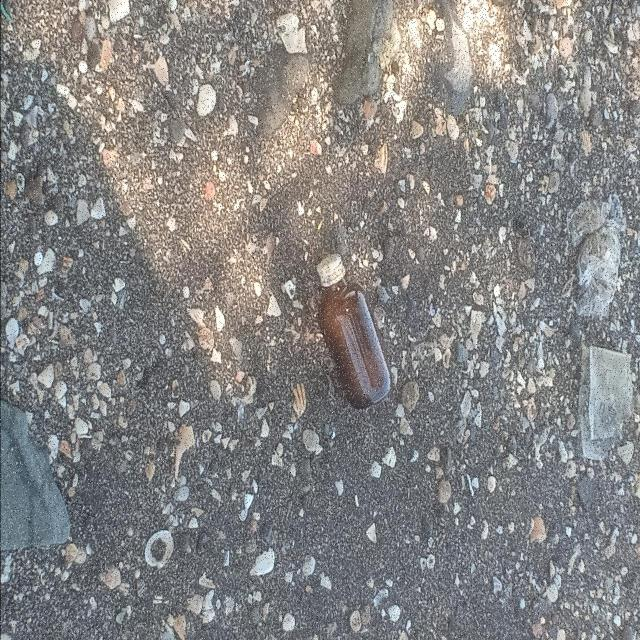glass_waste: (319, 253, 393, 411)
